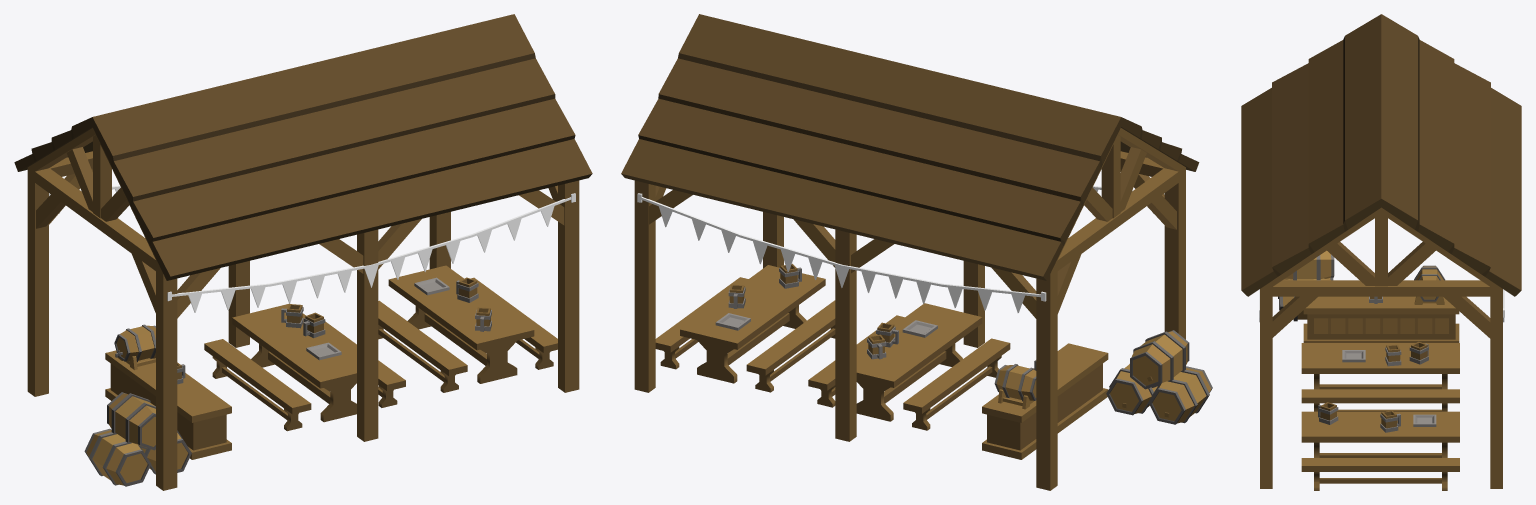
The model's file is OutdoorCover_02.gltf.
The picture shows the model from 3 angles, left to right: view 1: azimuth 30°, elevation 25°; view 2: azimuth 150°, elevation 25°; view 3: azimuth 270°, elevation 25°; orthographic projection. The views are drawn at different scales.
Visible parts, largest first — view 1: SF_Bld_OutdoorCover_02; view 2: SF_Bld_OutdoorCover_02; view 3: SF_Bld_OutdoorCover_02.
Boxes of the visible parts, bbox=[...] form: SF_Bld_OutdoorCover_02: bbox=[14, 14, 592, 490]; SF_Bld_OutdoorCover_02: bbox=[621, 14, 1212, 490]; SF_Bld_OutdoorCover_02: bbox=[1241, 14, 1521, 490].
Bounding box in the file's own units: 0.1481 × 0.099 × 0.0863.
Materials: 2 (1 with a texture image).
